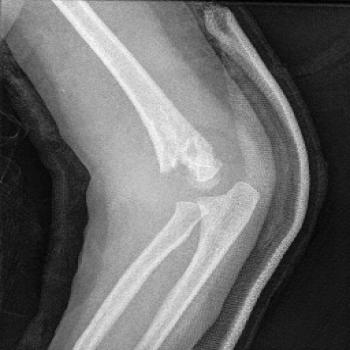Fracture: (152, 159, 213, 220)
